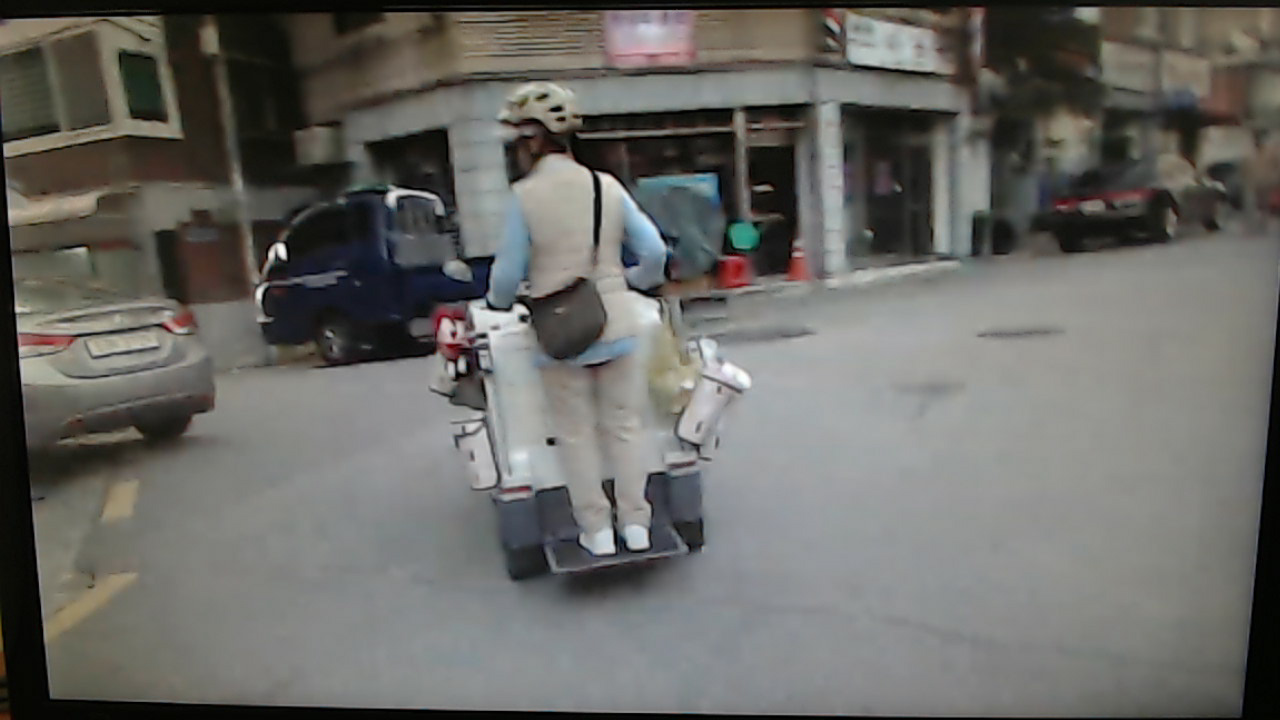Yakurut: (457, 55, 701, 586)
